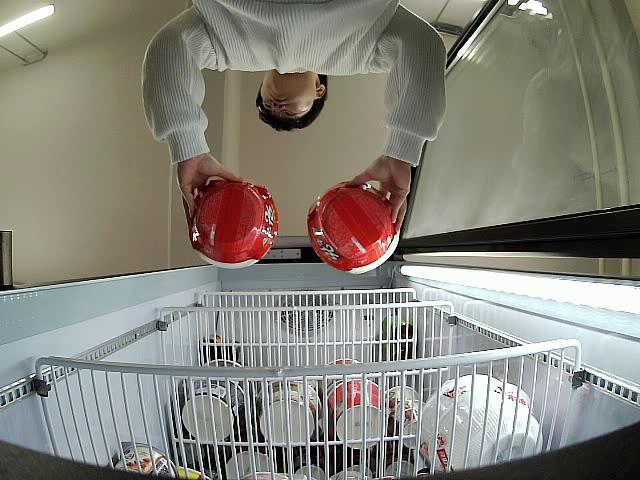00_hand: (351, 164, 410, 233), (177, 164, 246, 219)
10_wangTtukkeong: (308, 184, 400, 274), (188, 180, 280, 266)
